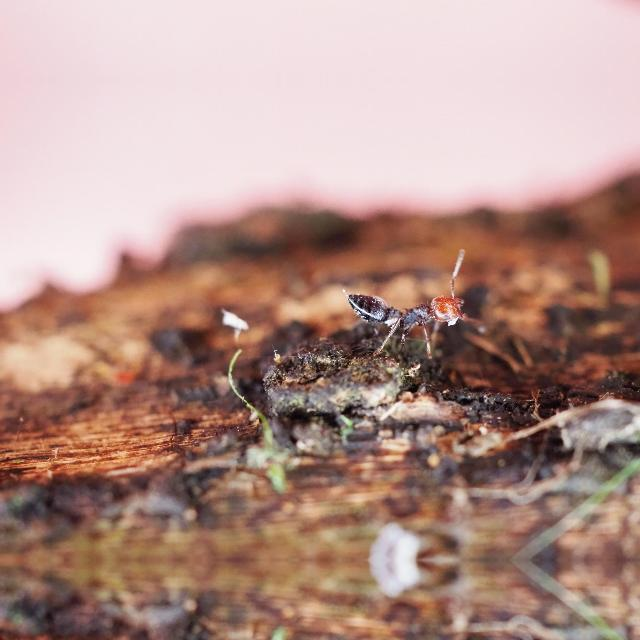Crematogaster: (336, 268, 482, 346)
